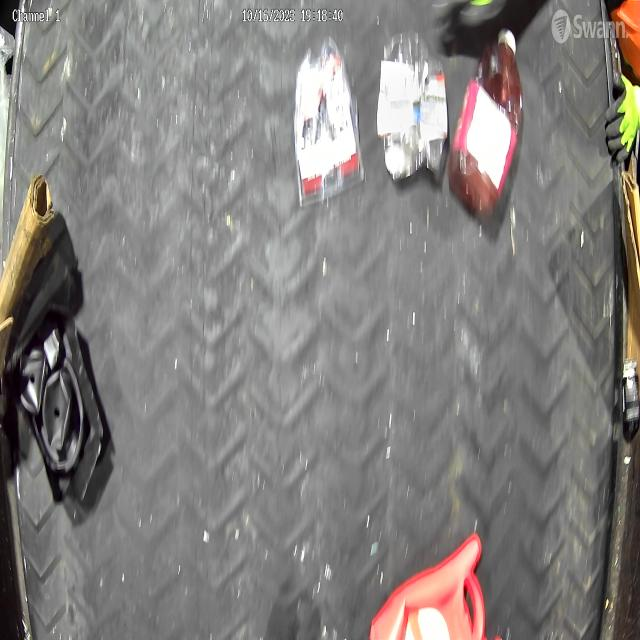non_white_jug: (369, 531, 505, 640)
plastic_bottle: (452, 27, 523, 213)
